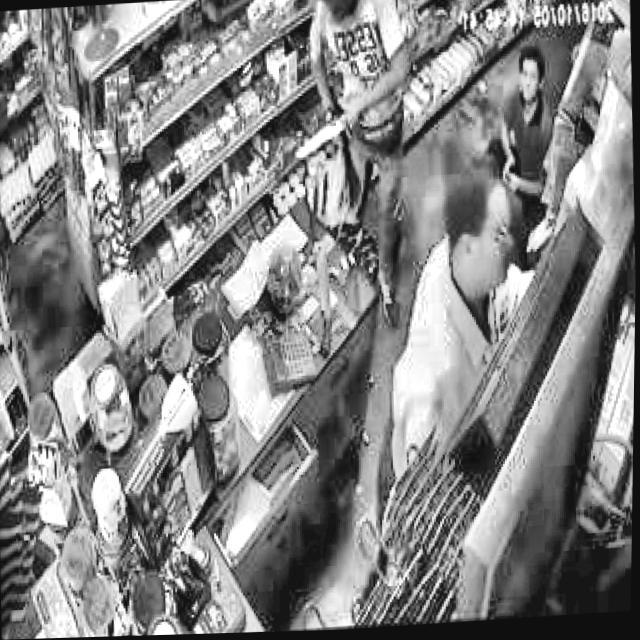Weapon: (398, 146, 550, 410), (294, 0, 414, 232), (474, 26, 570, 172)
